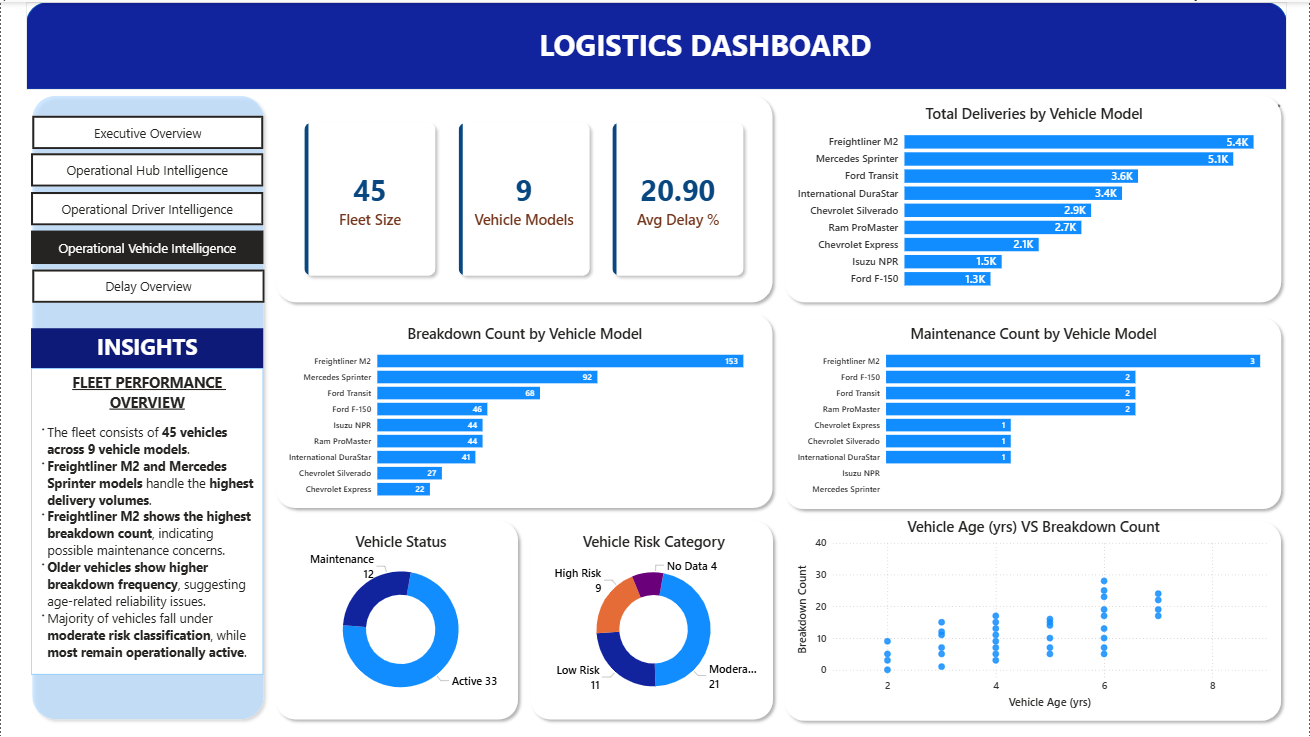

The page's visual inventory and layout, read from the dashboard file:
{"tool":"powerbi","page":{"name":"Operational Vehicle Intelligence","canvas":[1920,1080],"ordinal":3},"visuals":[{"type":"shape","box":[36.7,0,1850.8,128.4],"z":0},{"type":"textbox","box":[755.7,27.5,555.8,75.2],"z":1000},{"type":"shape","box":[1141.1,128.9,746.6,321.3],"z":2000},{"type":"shape","box":[394.5,128.9,746.6,321.3],"z":3000},{"type":"shape","box":[36.6,128.9,357.9,933.3],"z":4000},{"type":"cardVisual","fields":{"Data":["CountNonNull(delivery_network vw_vehicle_risk_classification.vehicle_id)","Count(delivery_network vw_vehicle_risk_classification.vehicle_model)","Avg(delivery_network vw_vehicle_risk_classification.delay_percentage)"]},"box":[415.6,148.2,704.3,282.9],"z":5000},{"type":"barChart","title":"Total Deliveries by Vehicle Model","fields":{"Category":["delivery_network vw_vehicle_risk_classification.vehicle_model"],"Y":["Sum(delivery_network vw_vehicle_risk_classification.total_deliveries)"]},"box":[1162.2,148.2,706.2,282.9],"z":6000},{"type":"shape","box":[394.5,450.3,746.6,302.1],"z":7000},{"type":"shape","box":[1141.1,454.1,746.6,298.3],"z":8000},{"type":"shape","box":[394.5,752.4,373.3,309.8],"z":9000},{"type":"barChart","title":"Breakdown Count by Vehicle Model","fields":{"Category":["delivery_network vw_vehicle_risk_classification.vehicle_model"],"Y":["Sum(delivery_network vw_vehicle_risk_classification.breakdown_count)"]},"box":[415.6,471.4,704.3,267.5],"z":10000},{"type":"barChart","title":"Maintenance Count by Vehicle Model","fields":{"Category":["delivery_network vw_vehicle_risk_classification.vehicle_model"],"Y":["Sum(delivery_network vw_vehicle_risk_classification.maintenance_count)"]},"box":[1162.2,471.4,704.3,267.5],"z":11000},{"type":"donutChart","title":"Vehicle Status","fields":{"Category":["delivery_network vw_vehicle_risk_classification.vehicle_status"],"Y":["CountNonNull(delivery_network vw_vehicle_risk_classification.vehicle_id)"]},"box":[415.6,775.5,340.6,265.5],"z":12000},{"type":"shape","box":[767.8,752.4,373.3,309.8],"z":13000},{"type":"donutChart","title":"Vehicle Risk Category","fields":{"Category":["delivery_network vw_vehicle_risk_classification.vehicle_risk_category"],"Y":["CountNonNull(delivery_network vw_vehicle_risk_classification.vehicle_id)"]},"box":[796.6,775.5,323.3,265.5],"z":14000},{"type":"shape","box":[1140.9,753.9,746.5,310],"z":15000},{"type":"scatterChart","title":"Vehicle Age (yrs) VS Breakdown Count","fields":{"X":["delivery_network vw_vehicle_risk_classification.vehicle_age_years"],"Y":["delivery_network vw_vehicle_risk_classification.breakdown_count"]},"box":[1162.9,753.9,704.4,288],"z":16000},{"type":"pageNavigator","box":[45.9,166.9,339.3,49.5],"z":16001},{"type":"pageNavigator","box":[44,221.9,341.2,49.5],"z":16002},{"type":"pageNavigator","box":[44,278.8,341.2,49.5],"z":16003},{"type":"pageNavigator","box":[44,335.7,341.2,49.5],"z":16004},{"type":"pageNavigator","box":[45.9,392.5,341.2,49.5],"z":16005},{"type":"textbox","box":[44,478.7,341.2,58.7],"z":16006},{"type":"textbox","box":[44,537.4,341.2,449.4],"z":16007}]}

Visuals, with their boxes in screenshot pixels (x1, y1, x2, y2), scaled from the page's 1920x1080 canvas onto the 1310x737 screenshot:
shape: Rect(25, 0, 1288, 88)
textbox: Rect(516, 19, 895, 70)
shape: Rect(779, 88, 1288, 307)
shape: Rect(269, 88, 779, 307)
shape: Rect(25, 88, 269, 725)
cardVisual - CountNonNull(delivery_network vw_vehicle_risk_classification.vehicle_id) x Count(delivery_network vw_vehicle_risk_classification.vehicle_model): Rect(284, 101, 764, 294)
"Total Deliveries by Vehicle Model" barChart: Rect(793, 101, 1275, 294)
shape: Rect(269, 307, 779, 513)
shape: Rect(779, 310, 1288, 513)
shape: Rect(269, 513, 524, 725)
"Breakdown Count by Vehicle Model" barChart: Rect(284, 322, 764, 504)
"Maintenance Count by Vehicle Model" barChart: Rect(793, 322, 1273, 504)
"Vehicle Status" donutChart: Rect(284, 529, 516, 710)
shape: Rect(524, 513, 779, 725)
"Vehicle Risk Category" donutChart: Rect(544, 529, 764, 710)
shape: Rect(778, 514, 1288, 726)
"Vehicle Age (yrs) VS Breakdown Count" scatterChart: Rect(793, 514, 1274, 711)
pageNavigator: Rect(31, 114, 263, 148)
pageNavigator: Rect(30, 151, 263, 185)
pageNavigator: Rect(30, 190, 263, 224)
pageNavigator: Rect(30, 229, 263, 263)
pageNavigator: Rect(31, 268, 264, 302)
textbox: Rect(30, 327, 263, 367)
textbox: Rect(30, 367, 263, 673)
